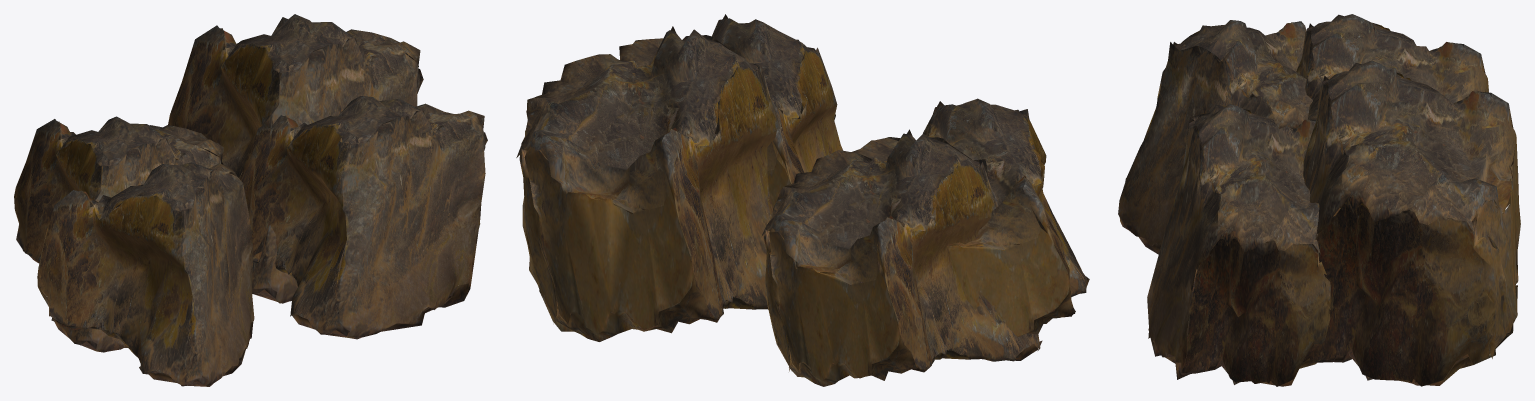
Rendered from cliff-3-lod.obj.
The picture shows the model from 3 angles, left to right: view 1: azimuth 30°, elevation 25°; view 2: azimuth 150°, elevation 25°; view 3: azimuth 270°, elevation 25°; orthographic projection. The views are drawn at different scales.
Parts seen in each view (by area): view 1: cliff-3.001; view 2: cliff-3.001; view 3: cliff-3.001.
Boxes of the visible parts, bbox=[...] form: cliff-3.001: bbox=[14, 14, 487, 386]; cliff-3.001: bbox=[516, 14, 1089, 386]; cliff-3.001: bbox=[1118, 14, 1520, 386].
Size of the model in its own units: 7.56 by 4.23 by 5.54.
1 material, 1 textured.
